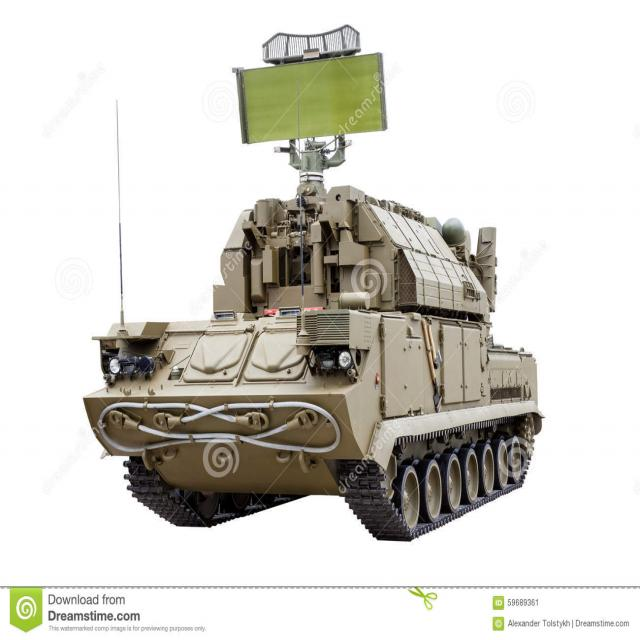MIL_EW_RDR: (83, 27, 541, 544)
